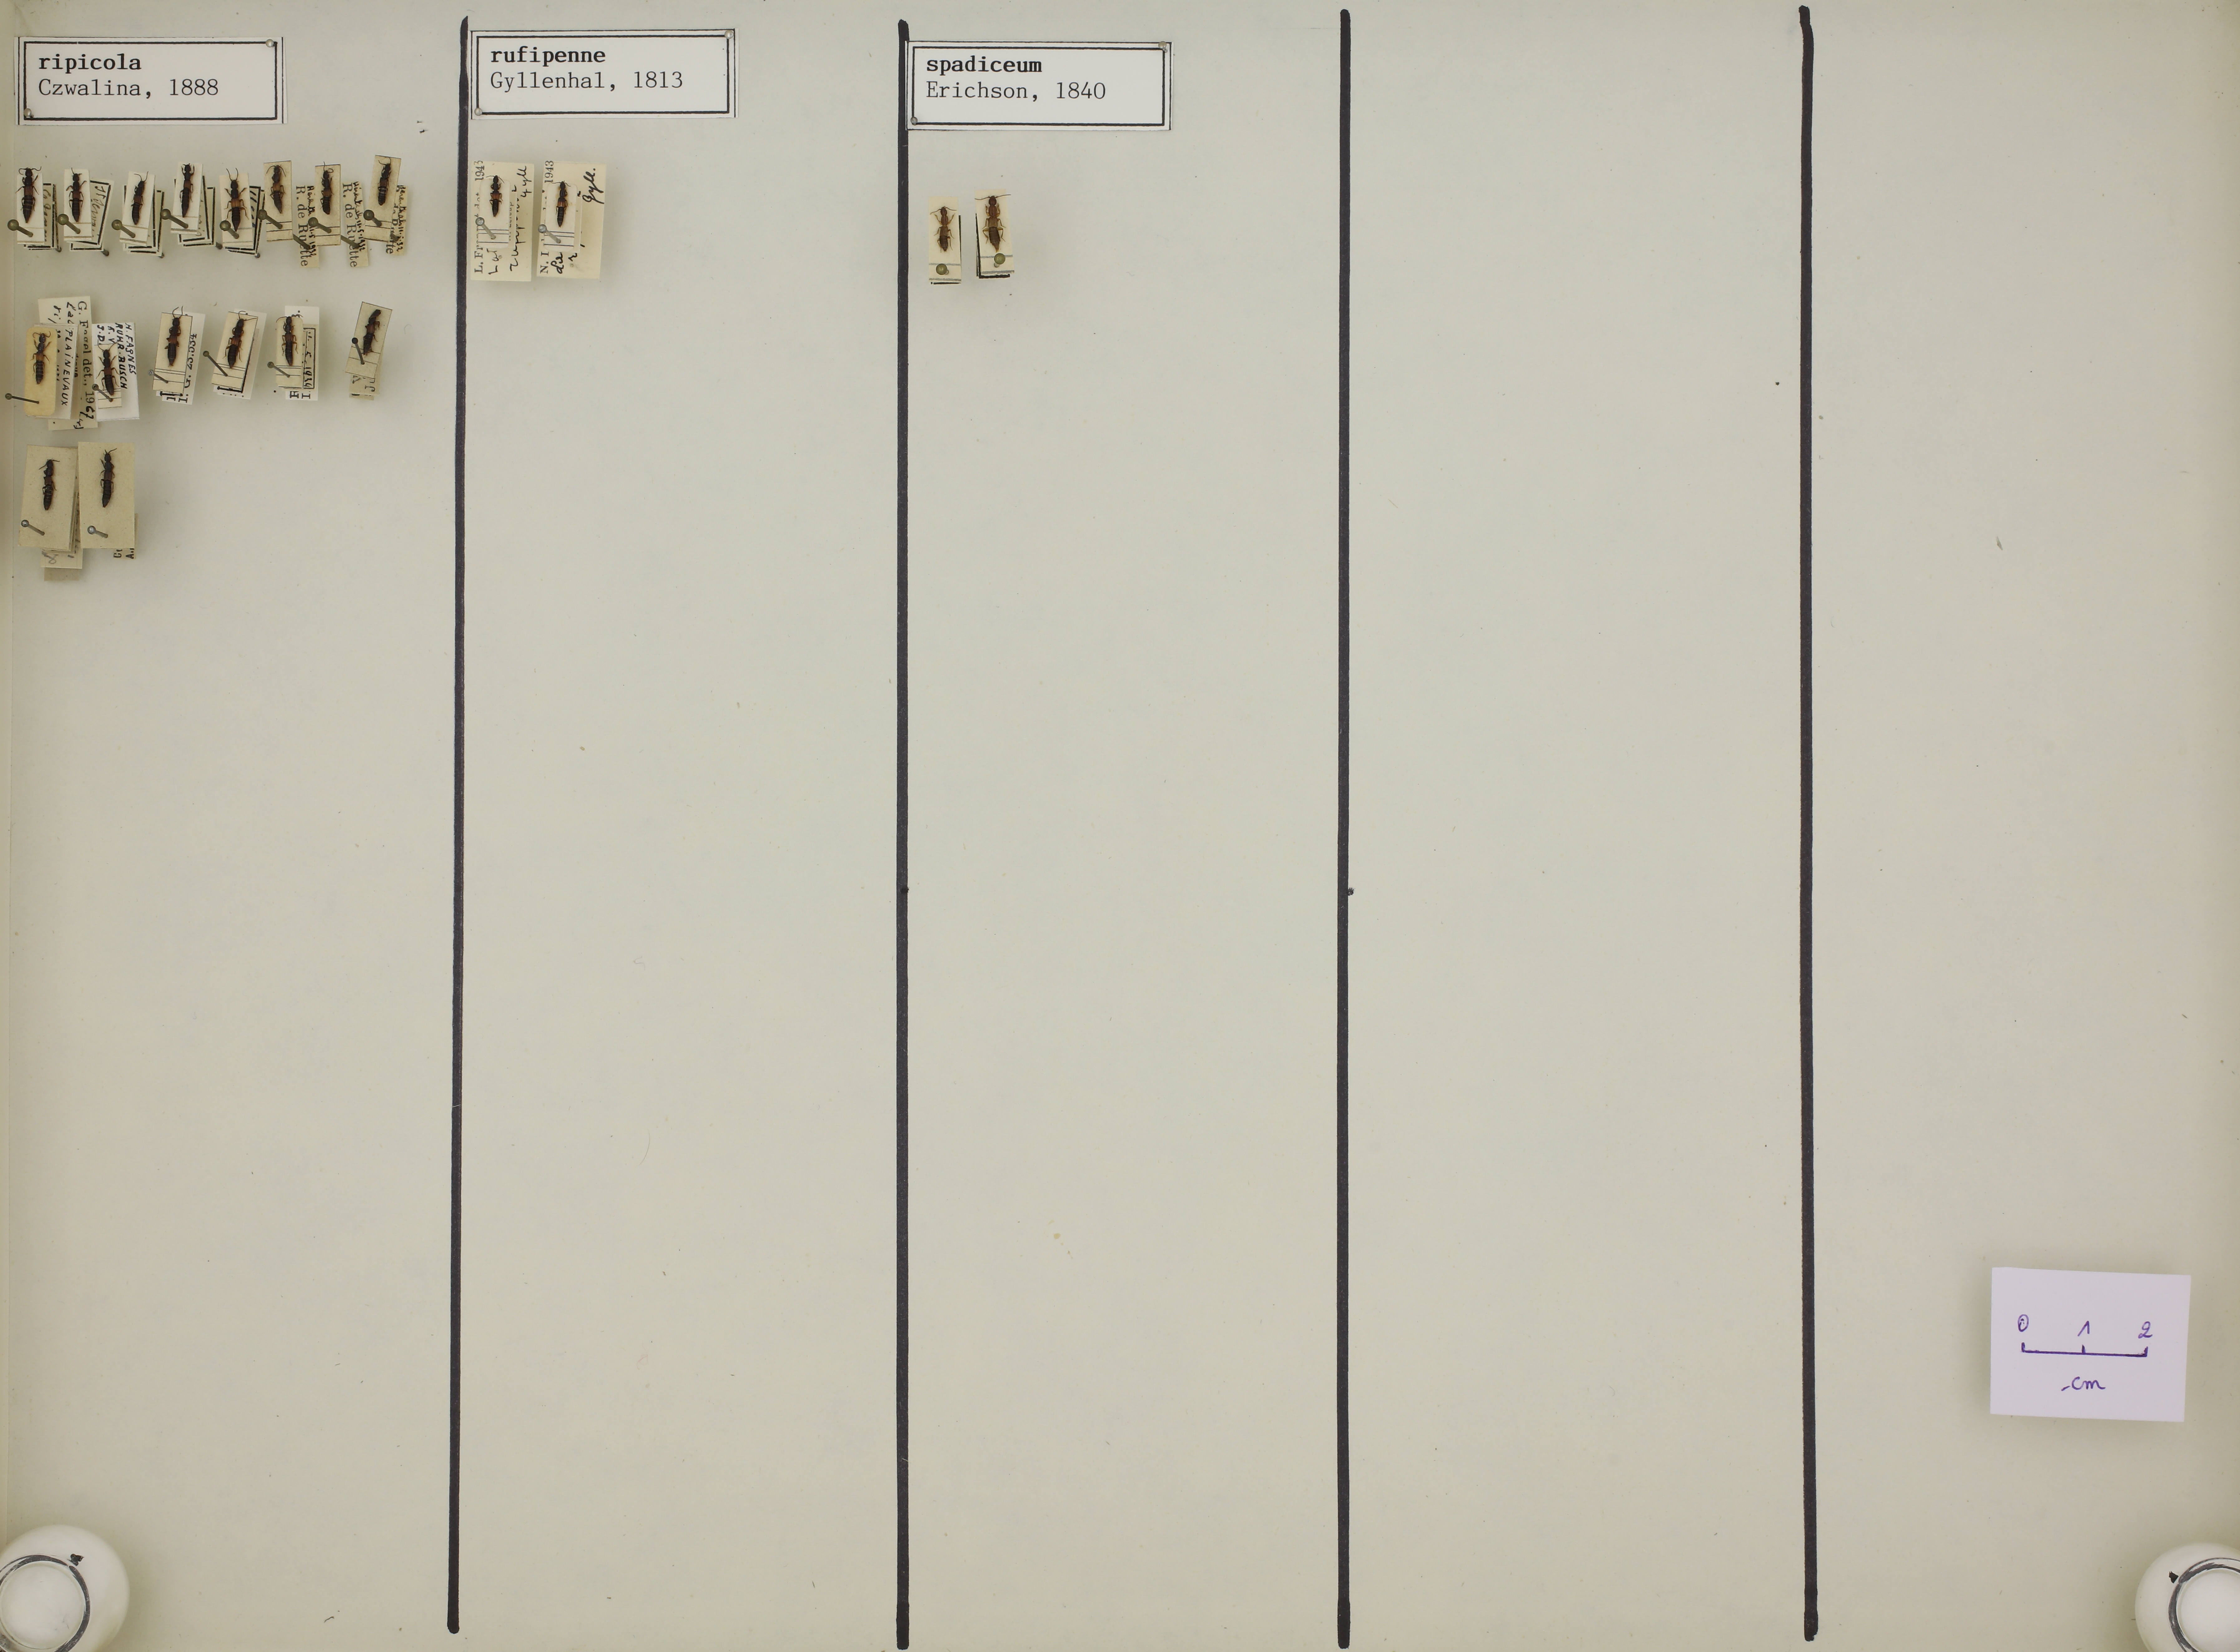insect: (972, 190, 1014, 256), (226, 311, 254, 370), (277, 313, 304, 369), (17, 165, 43, 223), (97, 341, 123, 398), (224, 167, 247, 231), (130, 170, 153, 228), (31, 329, 54, 386), (930, 205, 957, 254), (360, 308, 384, 358), (99, 449, 118, 511), (163, 308, 183, 367), (38, 457, 59, 511), (68, 169, 87, 224), (266, 165, 287, 214), (551, 179, 572, 226), (179, 163, 197, 217), (318, 163, 336, 217), (487, 172, 506, 217), (377, 158, 395, 207)
